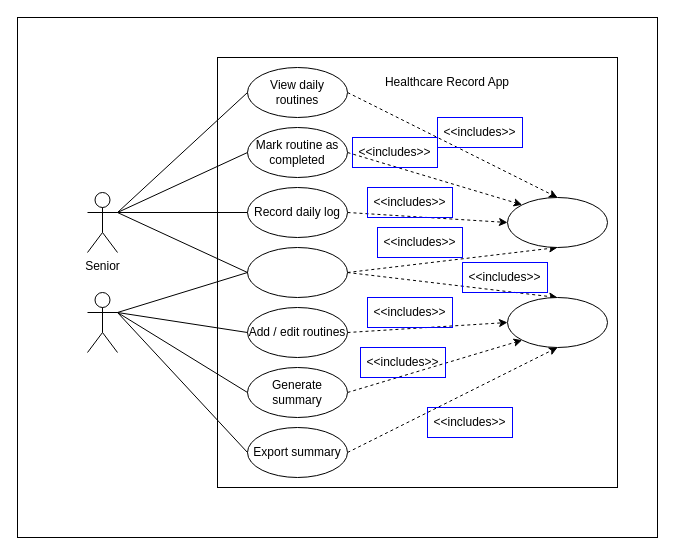
The diagram is 675 pixels wide and 555 high, and some of its shapes have lost their labels. The shapes that lost their labels are listed below. From the top down, each one's centre as x and y in pixels, then its label:
point (557, 222): Access Current Day's Record
point (297, 272): View history
point (102, 322): Caregiver
point (557, 322): Access Past Record
